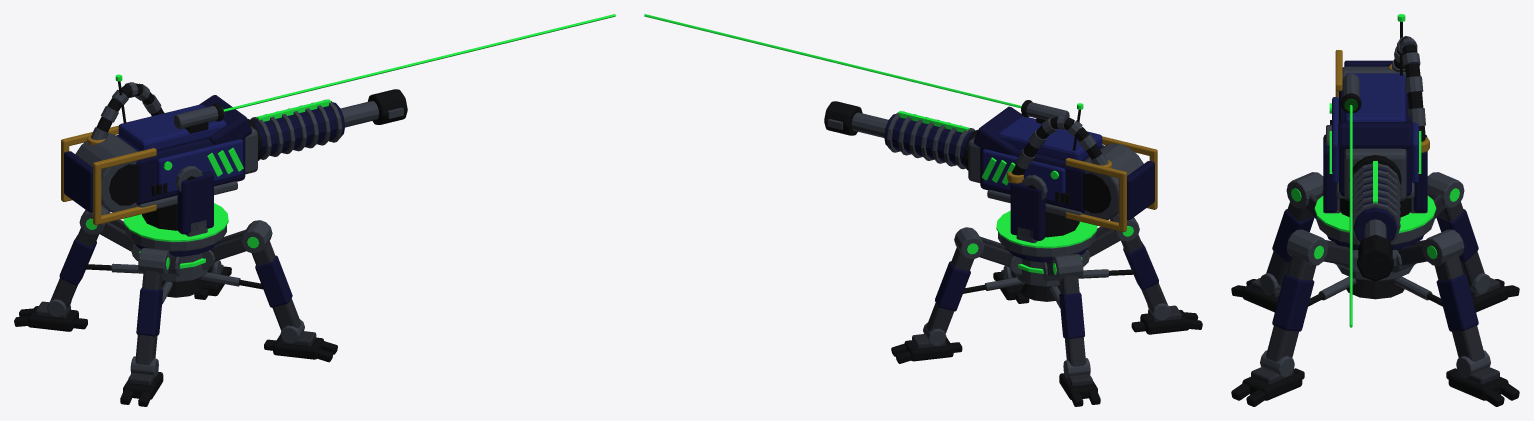
The model's file is torreta_ametralladora.obj.
3 views of the same model, side by side, from view 1: azimuth 30°, elevation 25°; view 2: azimuth 150°, elevation 25°; view 3: azimuth 270°, elevation 25° (orthographic). The views are drawn at different scales.
Parts seen in each view (by area): view 1: Pivot_Blindaje_Azul, Pivot_Metal_Gris, Base_Patas_Gris, Base_Metal_Gris, Pivot_Blindaje_Azul_Claro, Base_Metal_Oscuro, Base_Blindaje_Azul, Pivot_Metal_Oscuro, Barrel_Metal_Gris, Pivot_Marco_Dorado, Pivot_Neon_Verde, Barrel_Blindaje_Azul (+2 smaller); view 2: Pivot_Blindaje_Azul, Pivot_Metal_Gris, Base_Patas_Gris, Base_Metal_Gris, Base_Metal_Oscuro, Pivot_Blindaje_Azul_Claro, Base_Blindaje_Azul, Pivot_Metal_Oscuro, Barrel_Metal_Gris, Pivot_Marco_Dorado, Pivot_Neon_Verde, Barrel_Blindaje_Azul (+2 smaller); view 3: Base_Metal_Gris, Base_Patas_Gris, Base_Blindaje_Azul, Base_Metal_Oscuro, Pivot_Blindaje_Azul, Pivot_Metal_Gris, Pivot_Blindaje_Azul_Claro, Barrel_Metal_Gris, Pivot_Metal_Oscuro, Pivot_Neon_Verde, Barrel_Metal_Oscuro, Barrel_Blindaje_Azul (+3 smaller).
Part boxes in pixels (x1,y1,x2,y2): Pivot_Blindaje_Azul: [64, 95, 251, 234]; Pivot_Metal_Gris: [75, 82, 257, 251]; Base_Patas_Gris: [36, 219, 316, 386]; Base_Metal_Gris: [47, 206, 304, 377]; Pivot_Blindaje_Azul_Claro: [118, 104, 242, 194]; Base_Metal_Oscuro: [14, 264, 337, 406]; Base_Blindaje_Azul: [59, 235, 292, 336]; Pivot_Metal_Oscuro: [96, 81, 262, 230]; Barrel_Metal_Gris: [250, 99, 403, 159]; Pivot_Marco_Dorado: [61, 125, 156, 225]; Pivot_Neon_Verde: [115, 74, 243, 241]; Barrel_Blindaje_Azul: [252, 102, 345, 157]; Pivot_Blindaje_Azul: [973, 106, 1154, 240]; Pivot_Metal_Gris: [968, 102, 1143, 257]; Base_Patas_Gris: [912, 226, 1181, 386]; Base_Metal_Gris: [923, 213, 1170, 378]; Base_Metal_Oscuro: [891, 269, 1202, 406]; Pivot_Blindaje_Azul_Claro: [982, 116, 1102, 202]; Base_Blindaje_Azul: [935, 241, 1158, 339]; Pivot_Metal_Oscuro: [963, 100, 1111, 237]; Barrel_Metal_Gris: [827, 111, 975, 169]; Pivot_Marco_Dorado: [1007, 136, 1157, 232]; Pivot_Neon_Verde: [982, 103, 1097, 248]; Barrel_Blindaje_Azul: [884, 114, 973, 166]; Base_Metal_Gris: [1260, 172, 1490, 377]; Base_Patas_Gris: [1251, 189, 1499, 385]; Base_Blindaje_Azul: [1272, 209, 1478, 331]; Base_Metal_Oscuro: [1231, 279, 1519, 406]; Pivot_Blindaje_Azul: [1323, 60, 1427, 212]; Pivot_Metal_Gris: [1316, 36, 1434, 245]; Pivot_Blindaje_Azul_Claro: [1332, 73, 1418, 183]; Barrel_Metal_Gris: [1352, 163, 1400, 265]; Pivot_Metal_Oscuro: [1324, 22, 1426, 217]; Pivot_Neon_Verde: [1314, 14, 1436, 232]; Barrel_Metal_Oscuro: [1357, 234, 1393, 281]; Barrel_Blindaje_Azul: [1353, 168, 1397, 241].
Bounding box in the file's own units: 10.02 × 4.74 × 4.05.
